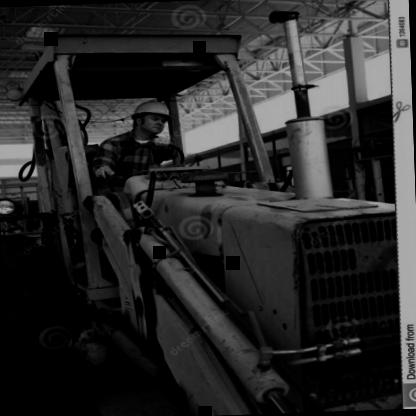helmet: (124, 94, 174, 142)
